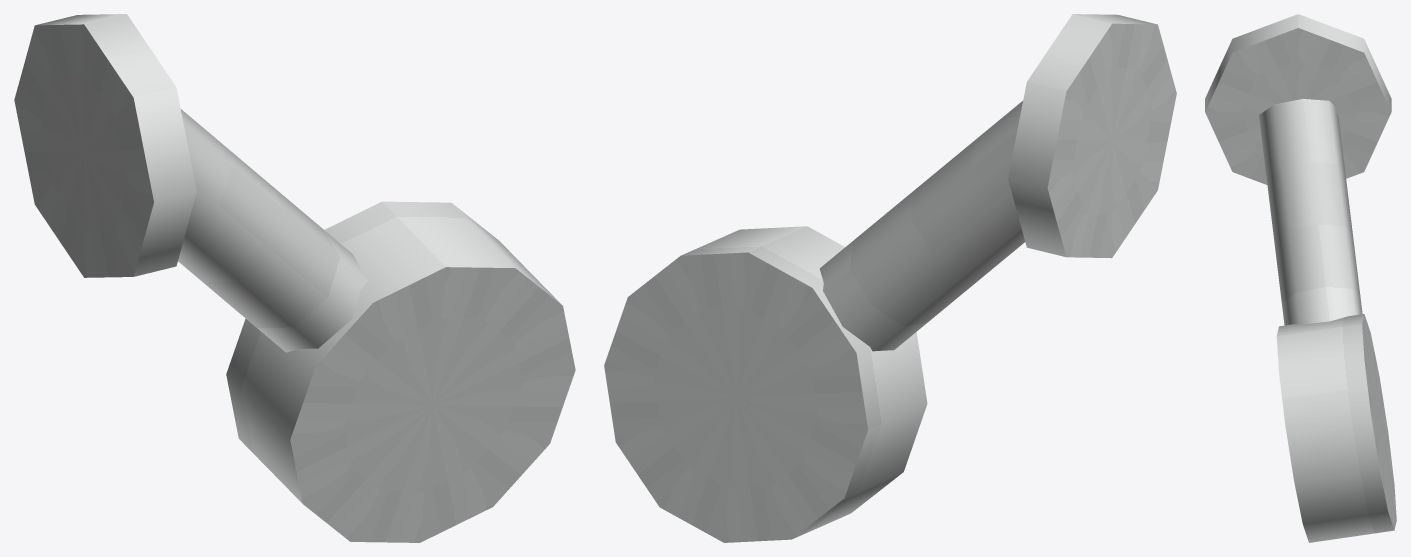
The model's file is trusssignalarm_stub_116.obj.
3 views of the same model, side by side, from view 1: azimuth 30°, elevation 25°; view 2: azimuth 150°, elevation 25°; view 3: azimuth 270°, elevation 25° (orthographic). The views are drawn at different scales.
Visible parts, largest first — view 1: trusssignalarm_stub_116; view 2: trusssignalarm_stub_116; view 3: trusssignalarm_stub_116.
Part boxes in pixels (x1,y1,x2,y2): trusssignalarm_stub_116: (14,14,575,542); trusssignalarm_stub_116: (604,14,1176,542); trusssignalarm_stub_116: (1205,14,1396,542).
Size of the model in its own units: 0.7056 by 0.8425 by 0.36.
